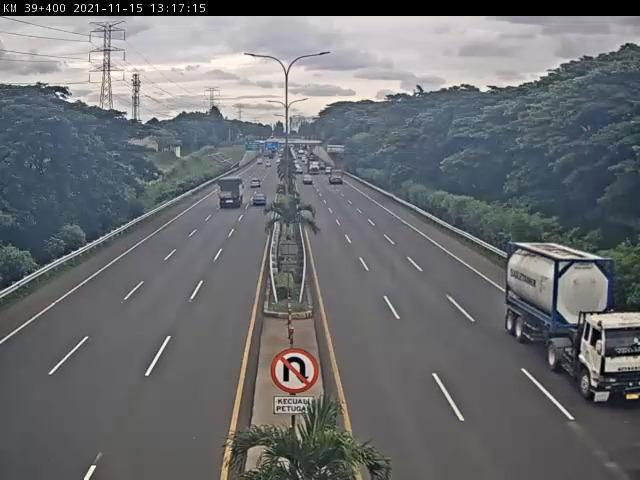truck: (506, 241, 640, 415), (218, 175, 245, 211)
